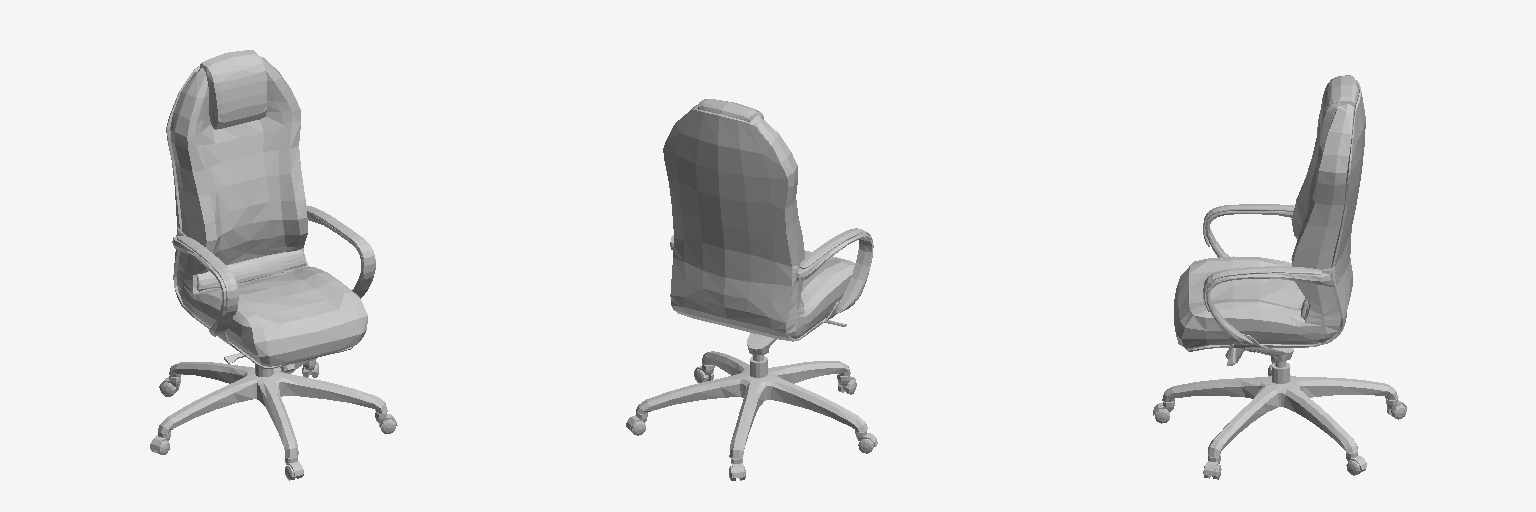
File: office_chair.obj
3 renders of one model, left to right at view 1: azimuth 30°, elevation 25°; view 2: azimuth 150°, elevation 25°; view 3: azimuth 270°, elevation 25°, orthographic.
Visible parts, largest first — view 1: obj1; view 2: obj1; view 3: obj1.
Boxes of the visible parts, x1,y1,x2,y2 form: obj1: [150, 50, 397, 480]; obj1: [626, 99, 877, 480]; obj1: [1153, 75, 1406, 479].
Size of the model in its own units: 0.934 by 1.46 by 0.9635.